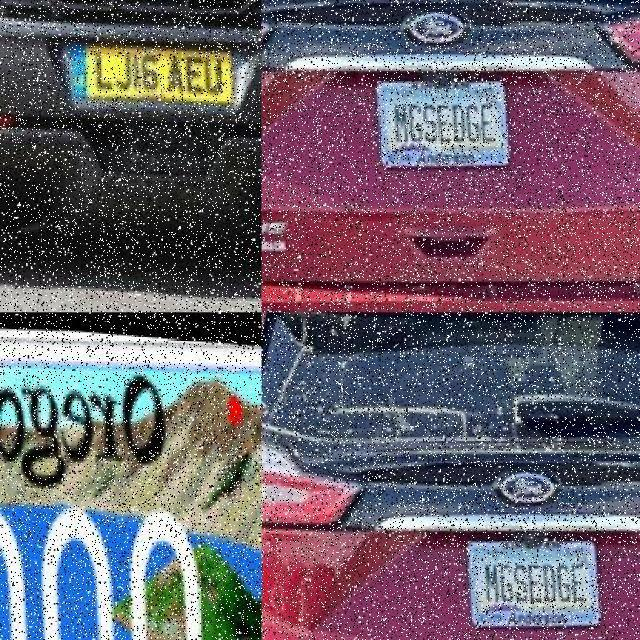LicensePlate: (0, 457, 229, 640), (374, 71, 509, 161), (465, 531, 600, 621), (69, 44, 233, 96)
